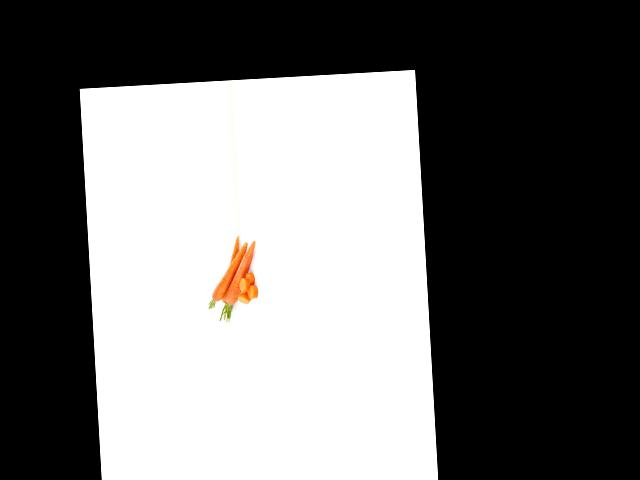carrot: (222, 240, 261, 308)
